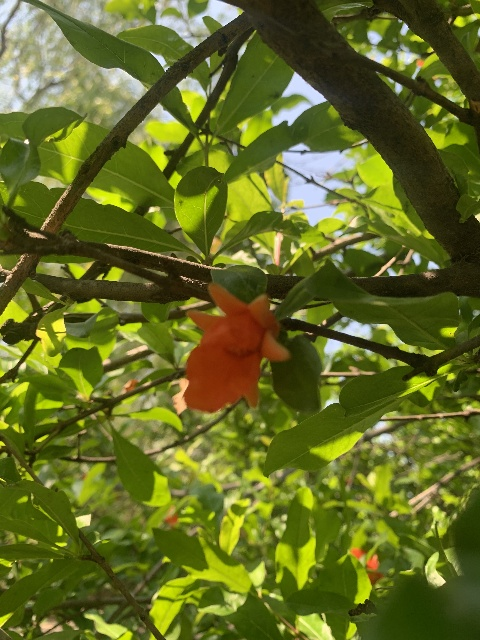flower: (180, 283, 292, 413)
